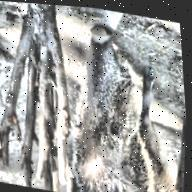boar: (51, 20, 192, 192)
